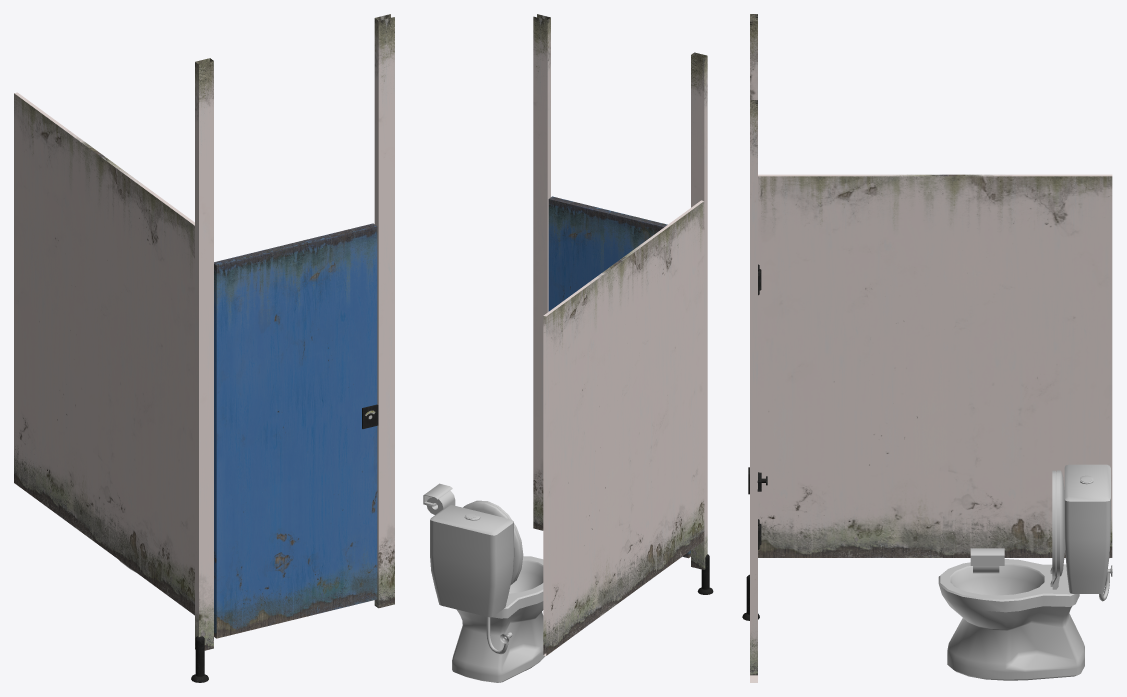
File: Stall 01.FBX
3 renders of one model, left to right at view 1: azimuth 30°, elevation 25°; view 2: azimuth 150°, elevation 25°; view 3: azimuth 270°, elevation 25°, orthographic. The views are drawn at different scales.
Visible parts, largest first — view 1: Stall Wall, Door; view 2: Stall Wall, Toilet001, Door, Seat Lid001; view 3: Stall Wall, Toilet001, Seat Lid001, Toilet Roll Holder001.
Part boxes in pixels (bbox=[...]): Stall Wall: bbox=[14, 14, 394, 682]; Door: bbox=[214, 223, 378, 638]; Stall Wall: bbox=[533, 14, 713, 655]; Toilet001: bbox=[430, 505, 545, 682]; Door: bbox=[548, 196, 690, 558]; Seat Lid001: bbox=[463, 502, 521, 584]; Stall Wall: bbox=[742, 14, 1112, 682]; Toilet001: bbox=[938, 464, 1112, 680]; Seat Lid001: bbox=[1052, 470, 1065, 589]; Toilet Roll Holder001: bbox=[970, 548, 1004, 565].
Size of the model in its own units: 10.32 by 16.71 by 30.
